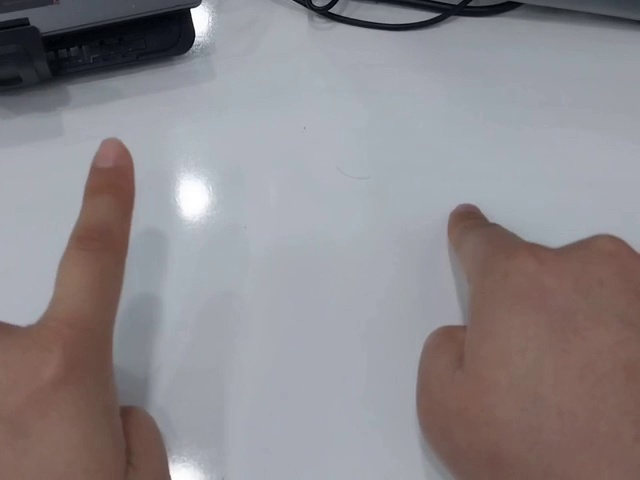fingers: (84, 136, 136, 194), (446, 202, 493, 242)
